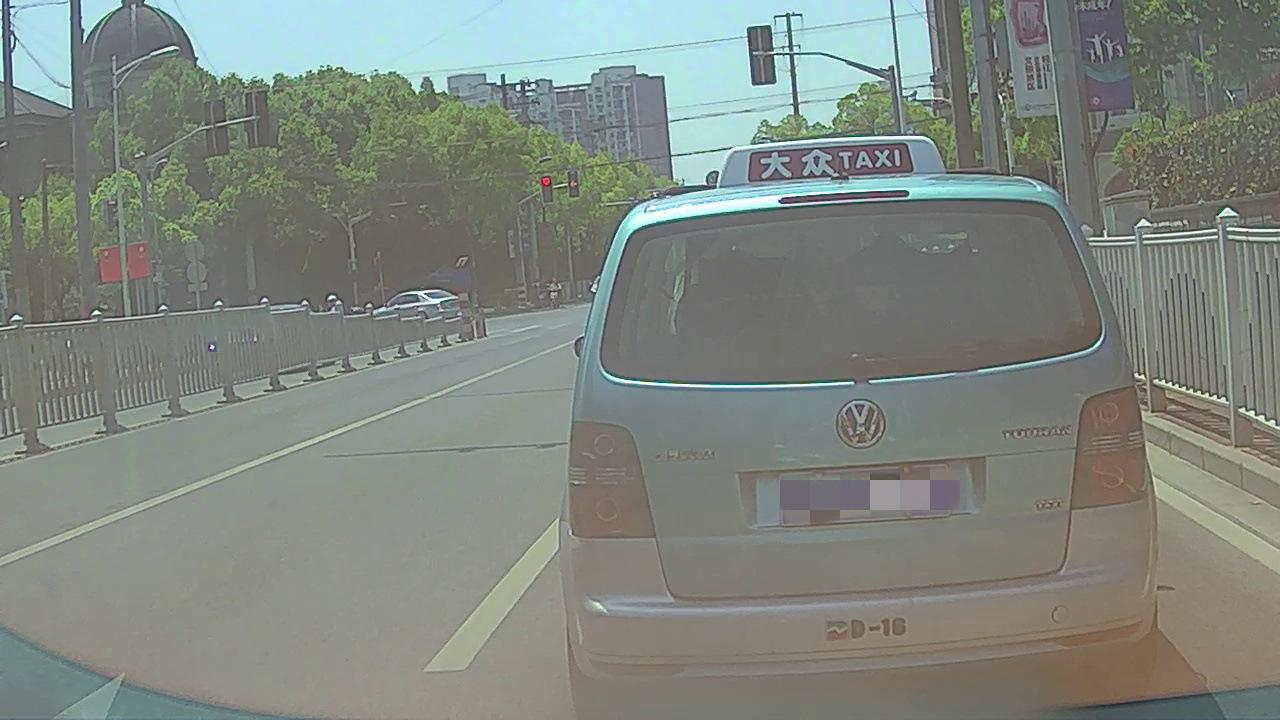traffic_light: (541, 176, 553, 203), (567, 172, 578, 197)
